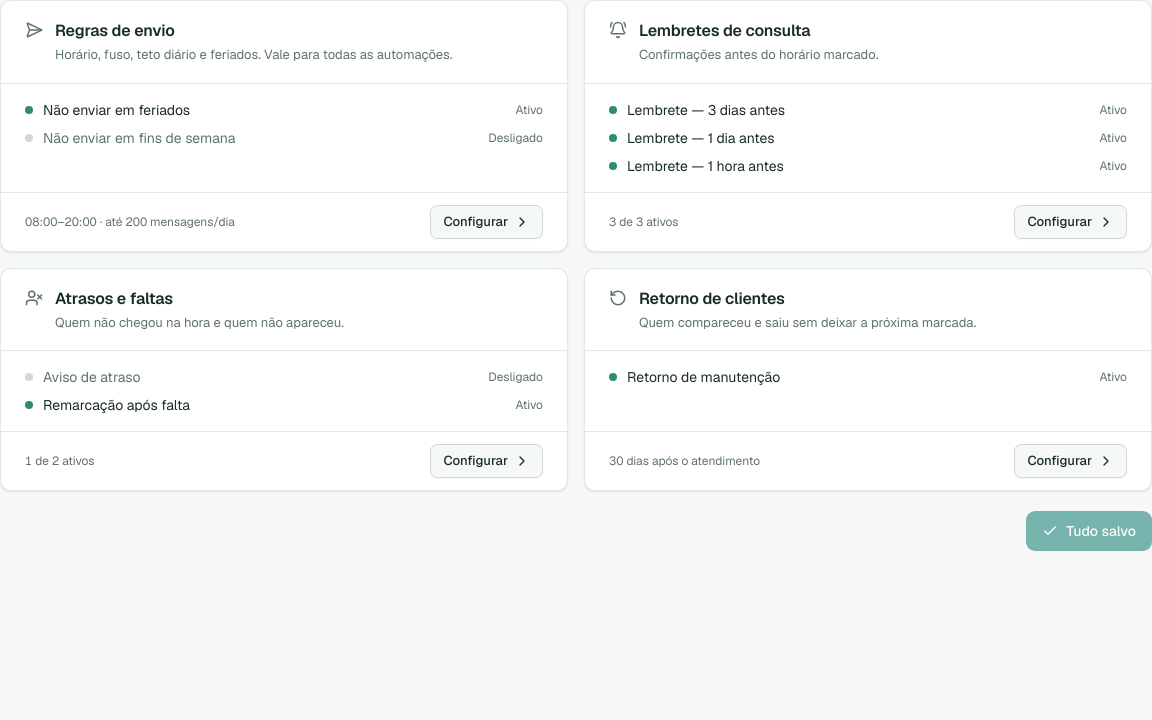
Test case: AutomationsTab › o teto de tentativas da remarcação não passa de 3
Click the button with aria-label "Configurar Atrasos e faltas": (487, 461) [430, 444, 543, 478]
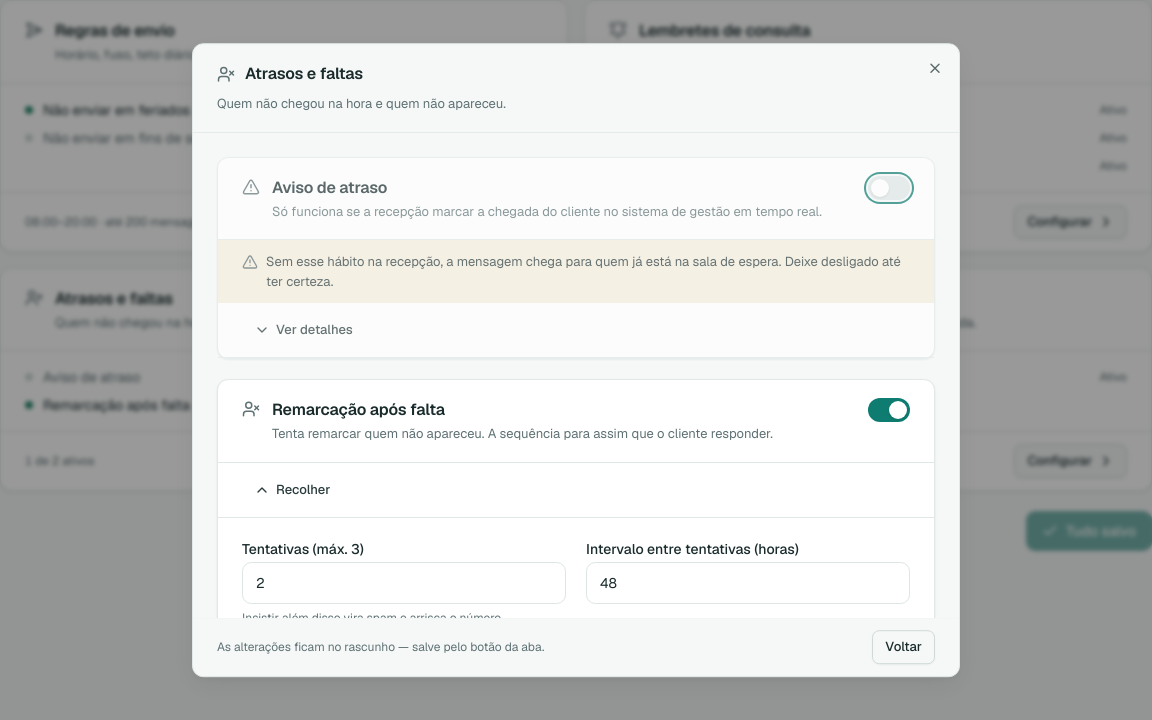
Replace the text in the number field labelled "Tentativas (máx. 3)" with "9": (404, 583) [242, 562, 566, 604]
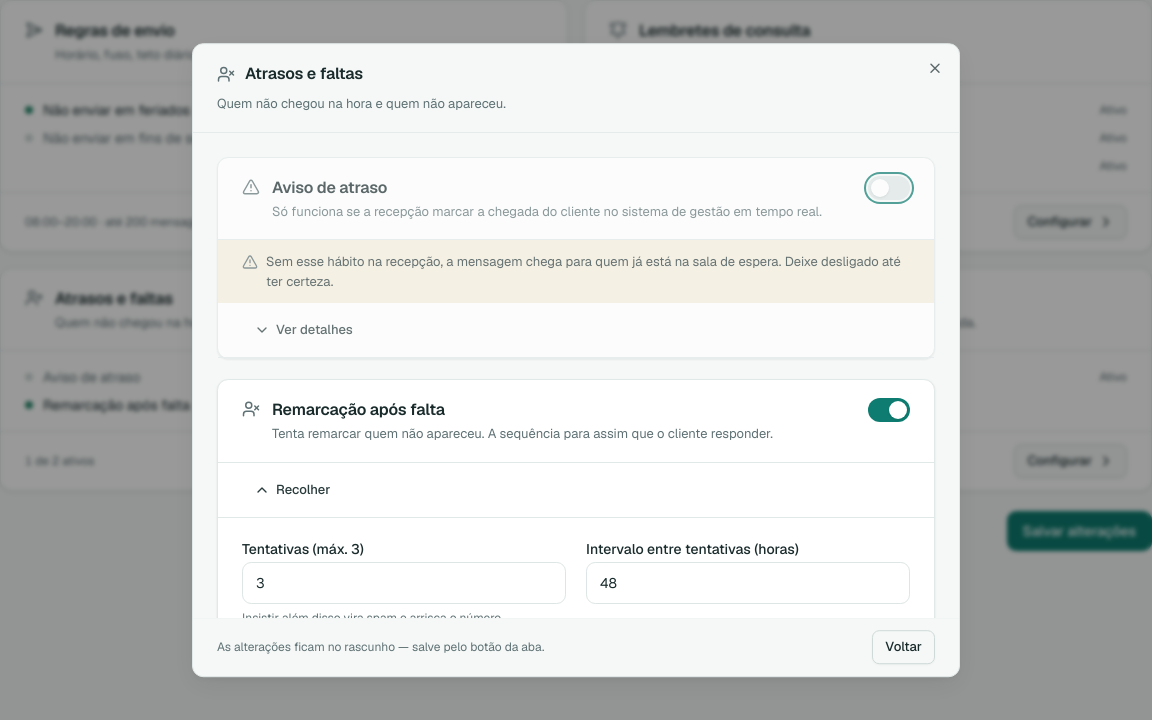
Result: the number field labelled "Tentativas (máx. 3)" holds "3" at [242, 562, 566, 604]
